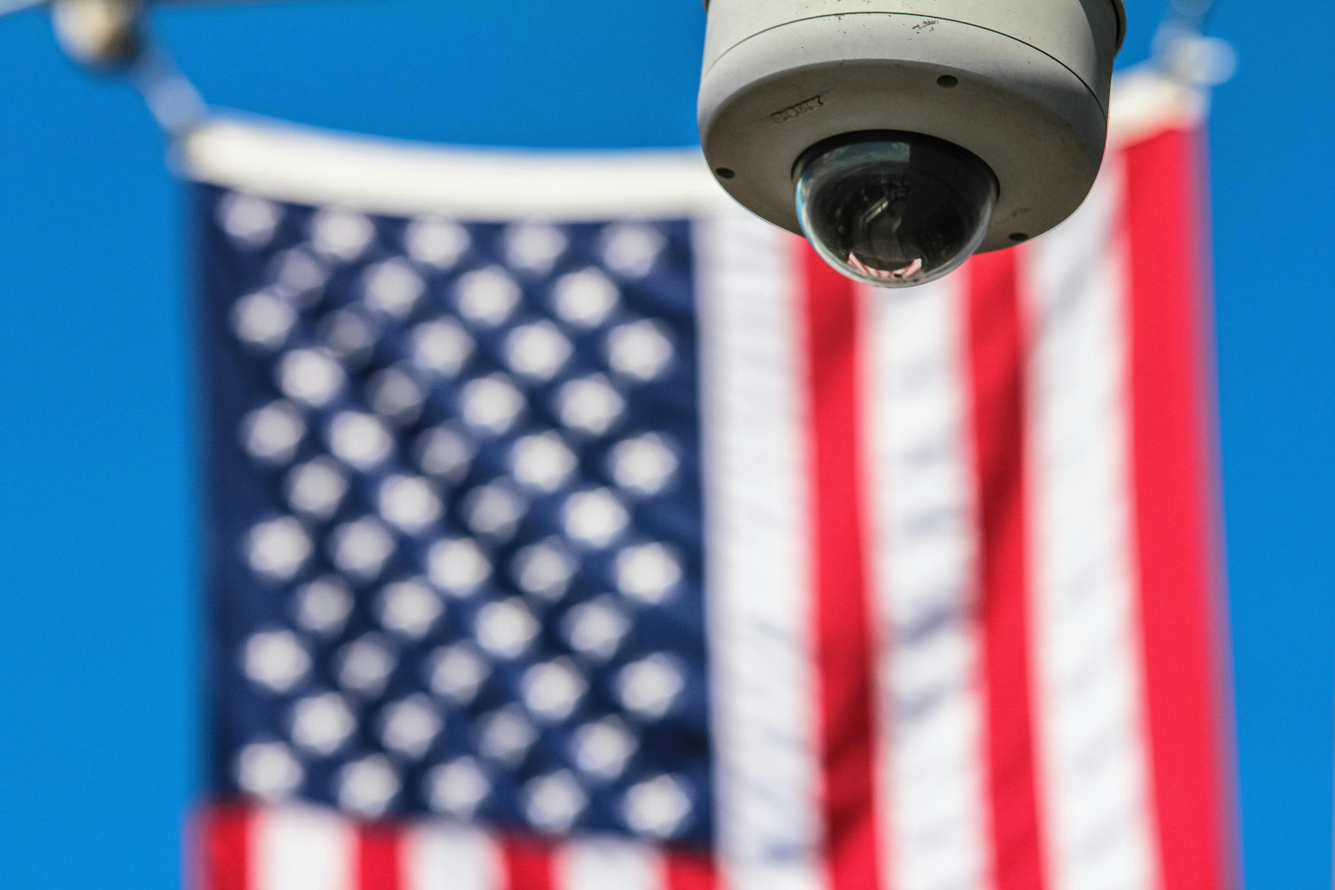camera: (672, 0, 1136, 327)
